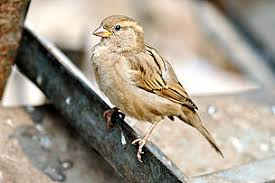hsparrow: (89, 10, 230, 176)
